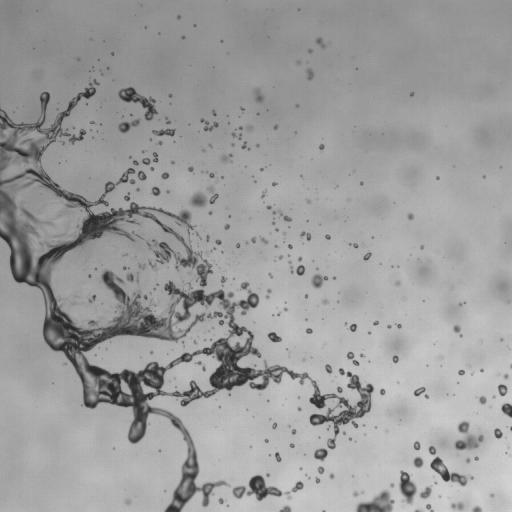droplet: (454, 421, 483, 450), (190, 185, 218, 207), (200, 118, 218, 131), (311, 274, 327, 288), (289, 262, 305, 275), (314, 448, 327, 461), (419, 486, 431, 498), (267, 332, 281, 342), (501, 403, 511, 417), (254, 88, 263, 102), (85, 295, 96, 306), (413, 386, 425, 396), (413, 456, 423, 468), (498, 384, 507, 396), (136, 170, 146, 180), (451, 502, 463, 510), (316, 37, 325, 47), (300, 231, 310, 240), (221, 153, 232, 161), (453, 325, 461, 336), (151, 186, 160, 195), (494, 428, 502, 438), (306, 68, 313, 79), (477, 396, 486, 404), (325, 364, 332, 374), (363, 252, 371, 260), (348, 323, 356, 331), (232, 132, 241, 139), (413, 441, 420, 450), (161, 172, 169, 179), (260, 236, 267, 244), (317, 466, 324, 474), (275, 452, 281, 461), (472, 506, 482, 511), (124, 193, 130, 201), (220, 276, 226, 283), (392, 355, 398, 362), (246, 125, 252, 131), (241, 142, 247, 148), (261, 190, 266, 197), (380, 388, 385, 395), (319, 144, 324, 150), (408, 213, 413, 219), (215, 239, 221, 244), (322, 299, 328, 304), (306, 328, 312, 333), (458, 370, 464, 375), (337, 386, 342, 392), (353, 491, 358, 497), (350, 243, 357, 247), (133, 160, 138, 165), (188, 166, 193, 171), (224, 224, 229, 229), (325, 234, 330, 239), (373, 320, 378, 325), (503, 374, 508, 379), (291, 429, 296, 434), (329, 473, 334, 478), (315, 477, 320, 482), (125, 499, 130, 504), (218, 498, 223, 503), (208, 173, 214, 177), (166, 119, 170, 124), (157, 141, 162, 145), (266, 205, 271, 209), (251, 237, 255, 242), (396, 324, 401, 328), (272, 423, 276, 428), (289, 443, 294, 447), (122, 253, 128, 256), (212, 111, 216, 115), (288, 244, 292, 248), (211, 247, 215, 251), (298, 256, 302, 260), (268, 273, 272, 277), (283, 307, 287, 311), (360, 353, 364, 357), (466, 458, 470, 462), (390, 483, 394, 487), (274, 124, 277, 129), (206, 235, 209, 240), (240, 107, 243, 111), (238, 126, 242, 129), (272, 182, 276, 185), (306, 199, 310, 202), (61, 232, 64, 236), (279, 255, 282, 259), (395, 282, 399, 285), (459, 303, 463, 306), (193, 340, 196, 344), (425, 394, 428, 398), (297, 407, 301, 410), (474, 457, 478, 460), (490, 493, 493, 497), (308, 49, 311, 52), (410, 92, 413, 95), (91, 121, 94, 124), (150, 167, 153, 170), (236, 244, 239, 247), (206, 251, 209, 254), (277, 312, 280, 315), (387, 325, 390, 328), (265, 439, 268, 442), (177, 16, 180, 18), (169, 94, 171, 97), (209, 144, 211, 147), (142, 150, 145, 152), (436, 177, 439, 179), (360, 182, 363, 184), (136, 188, 139, 190), (209, 211, 211, 214), (273, 211, 275, 214), (420, 246, 423, 248), (88, 275, 91, 277), (153, 287, 155, 290), (304, 295, 307, 297), (150, 351, 153, 353), (480, 369, 483, 371), (509, 427, 511, 430), (342, 432, 345, 434), (266, 474, 269, 476), (182, 36, 184, 38), (111, 53, 113, 55), (62, 142, 64, 144), (171, 161, 173, 163), (260, 168, 262, 170), (483, 175, 485, 177), (275, 229, 277, 231), (275, 245, 277, 247), (135, 257, 137, 259), (500, 338, 502, 340), (303, 358, 305, 360), (327, 426, 329, 428)
ligament: (0, 79, 373, 511), (232, 474, 303, 500), (428, 445, 473, 486), (118, 87, 157, 120), (355, 489, 394, 511), (398, 470, 416, 504), (118, 119, 139, 132), (142, 152, 158, 165), (152, 128, 174, 136), (346, 352, 359, 365), (277, 210, 291, 221), (196, 361, 205, 370), (279, 505, 291, 511), (426, 504, 434, 511), (266, 289, 271, 298), (70, 302, 77, 305), (195, 232, 199, 237), (414, 509, 424, 511), (510, 364, 511, 368)
